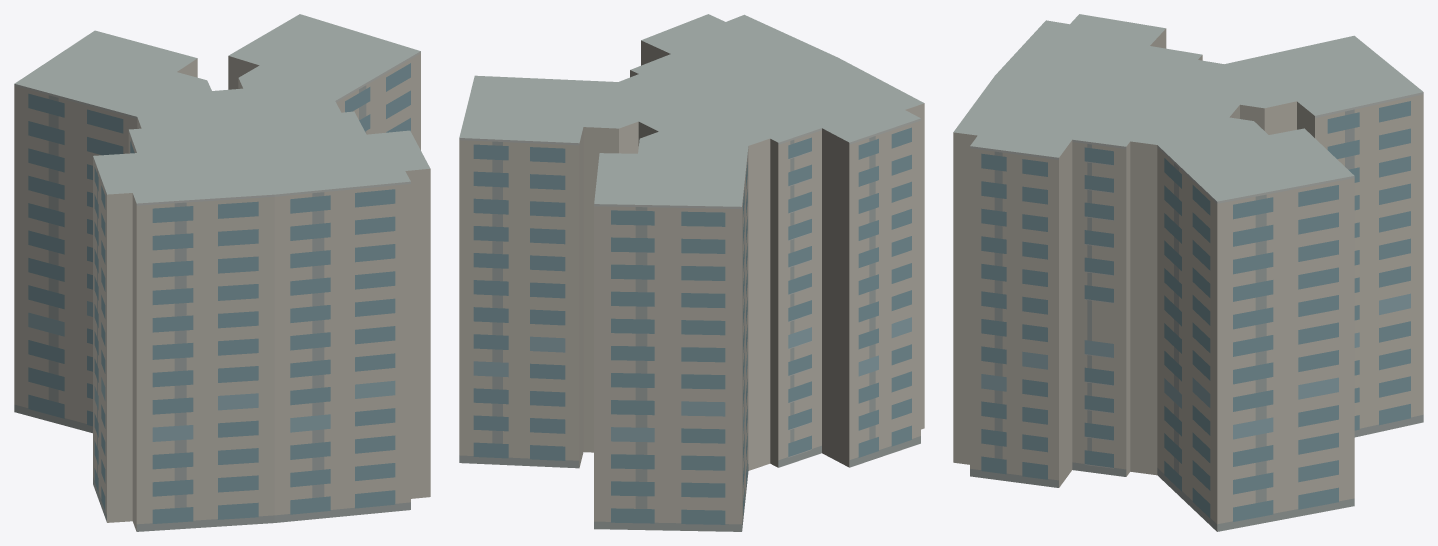
Rendered from residential-21cc4309-cc9c-41ed-8eeb-c18aec2d3fd4.glb.
3 views of the same model, side by side, from view 1: azimuth 30°, elevation 25°; view 2: azimuth 150°, elevation 25°; view 3: azimuth 270°, elevation 25° (orthographic).
Parts seen in each view (by area): view 1: residential-21cc4309-cc9c-41ed-8eeb-c18aec2d3fd4.tmp; view 2: residential-21cc4309-cc9c-41ed-8eeb-c18aec2d3fd4.tmp; view 3: residential-21cc4309-cc9c-41ed-8eeb-c18aec2d3fd4.tmp.
Part boxes in pixels (bbox=[...]): residential-21cc4309-cc9c-41ed-8eeb-c18aec2d3fd4.tmp: bbox=[14, 14, 430, 531]; residential-21cc4309-cc9c-41ed-8eeb-c18aec2d3fd4.tmp: bbox=[459, 14, 924, 531]; residential-21cc4309-cc9c-41ed-8eeb-c18aec2d3fd4.tmp: bbox=[953, 14, 1423, 531].
Size of the model in its own units: 43.87 by 36 by 46.49.
